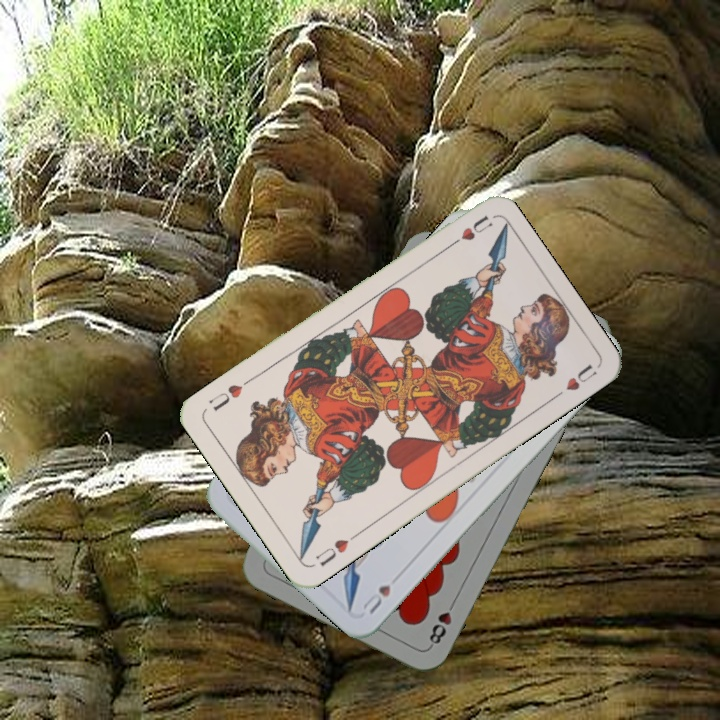H8: (425, 595, 459, 650)
HU: (442, 211, 495, 252), (311, 529, 361, 569), (358, 580, 394, 617)
